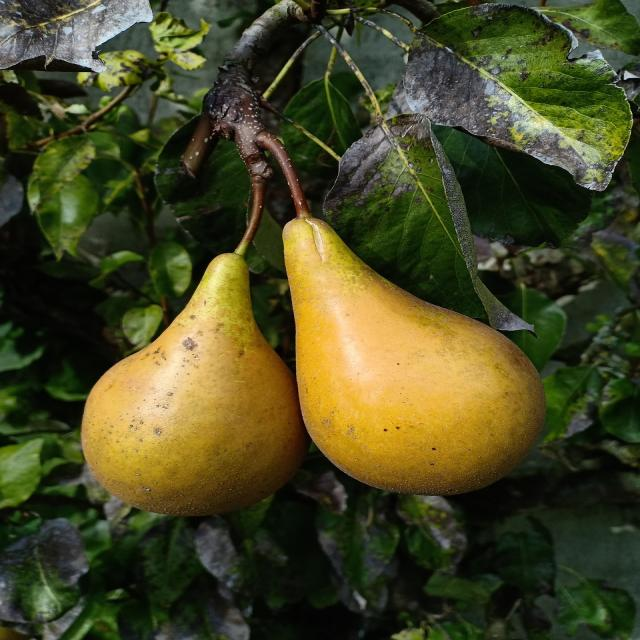pera: (80, 237, 309, 536)
